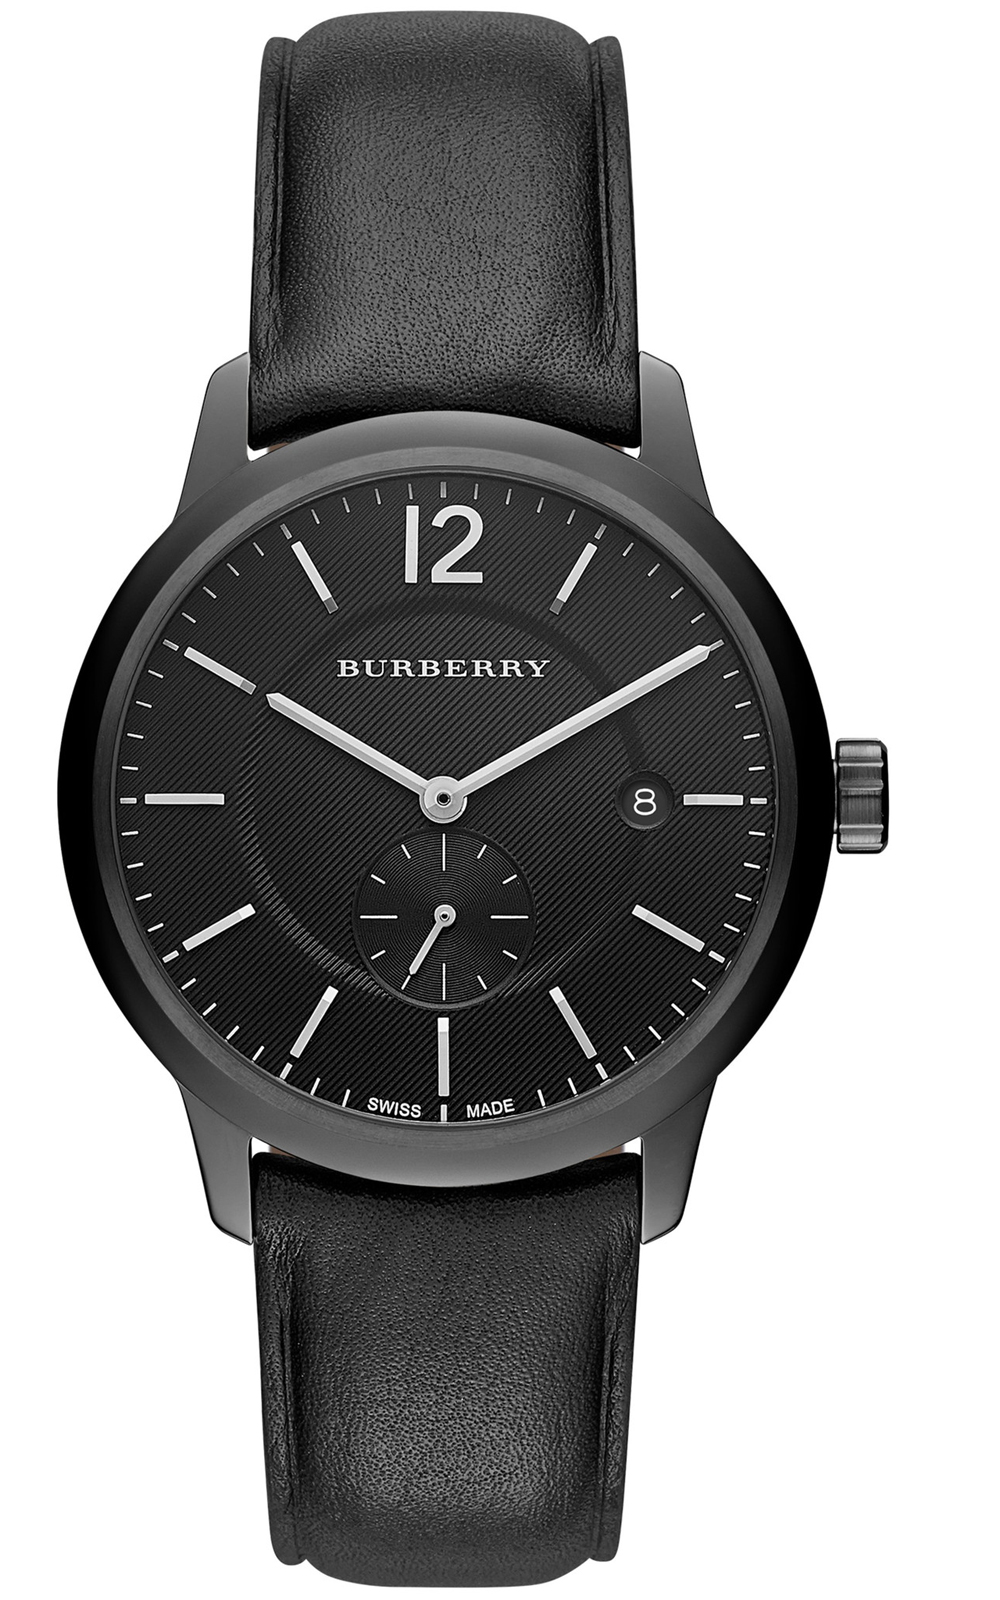clock: (115, 467, 787, 1133)
